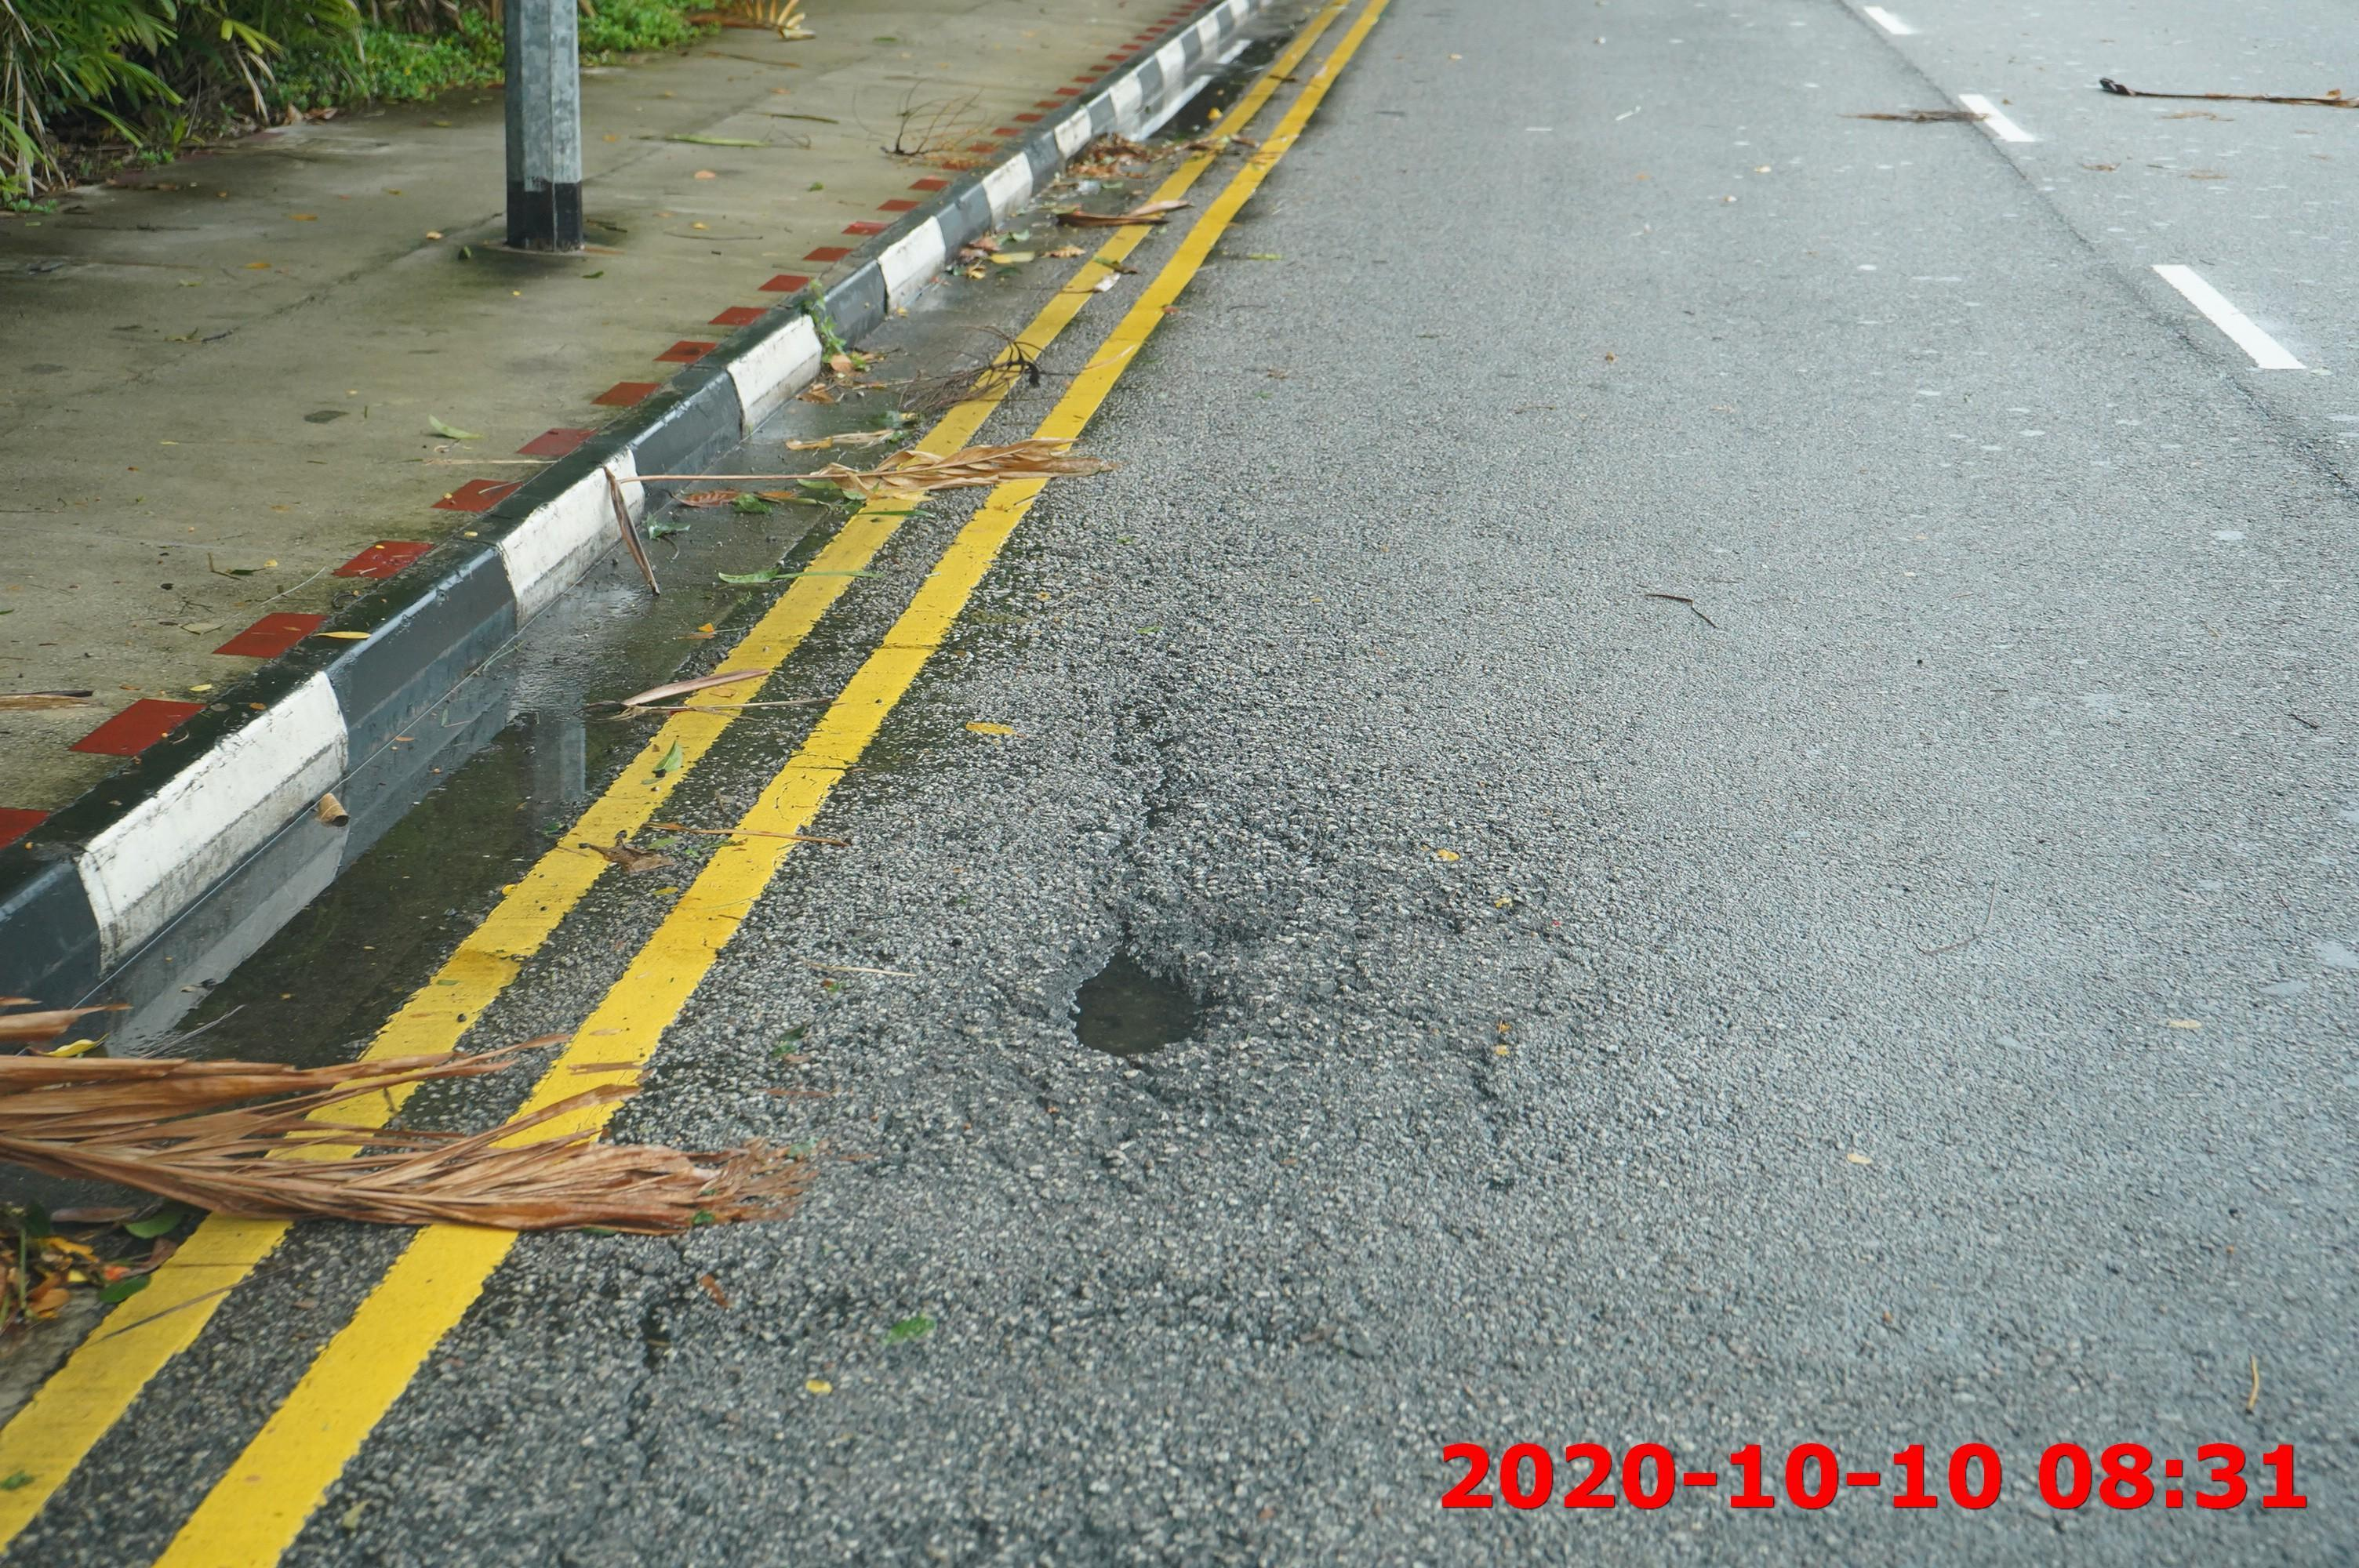peel off with cracks: (1064, 887, 1244, 1080)
